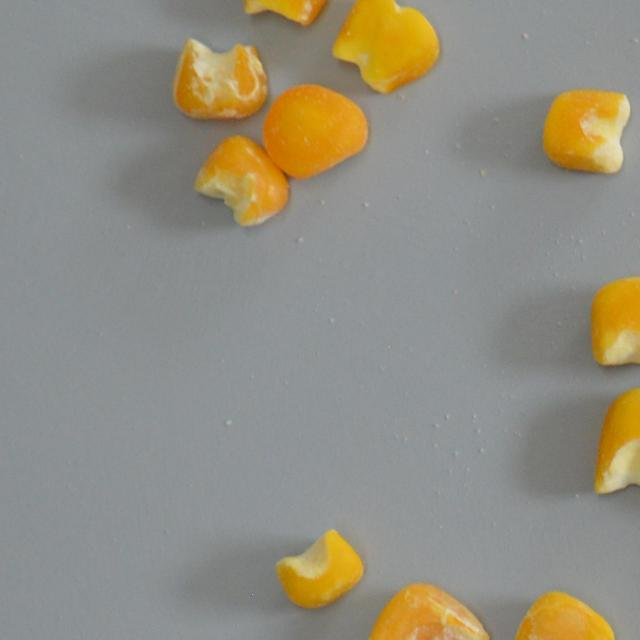no_canjicado: (260, 80, 368, 179), (330, 0, 440, 94), (193, 130, 287, 226), (540, 87, 630, 174), (272, 528, 363, 611), (588, 384, 640, 493), (590, 276, 640, 369)
pelicula: (170, 35, 268, 120), (364, 582, 490, 640), (504, 591, 617, 640), (242, 0, 334, 26)
